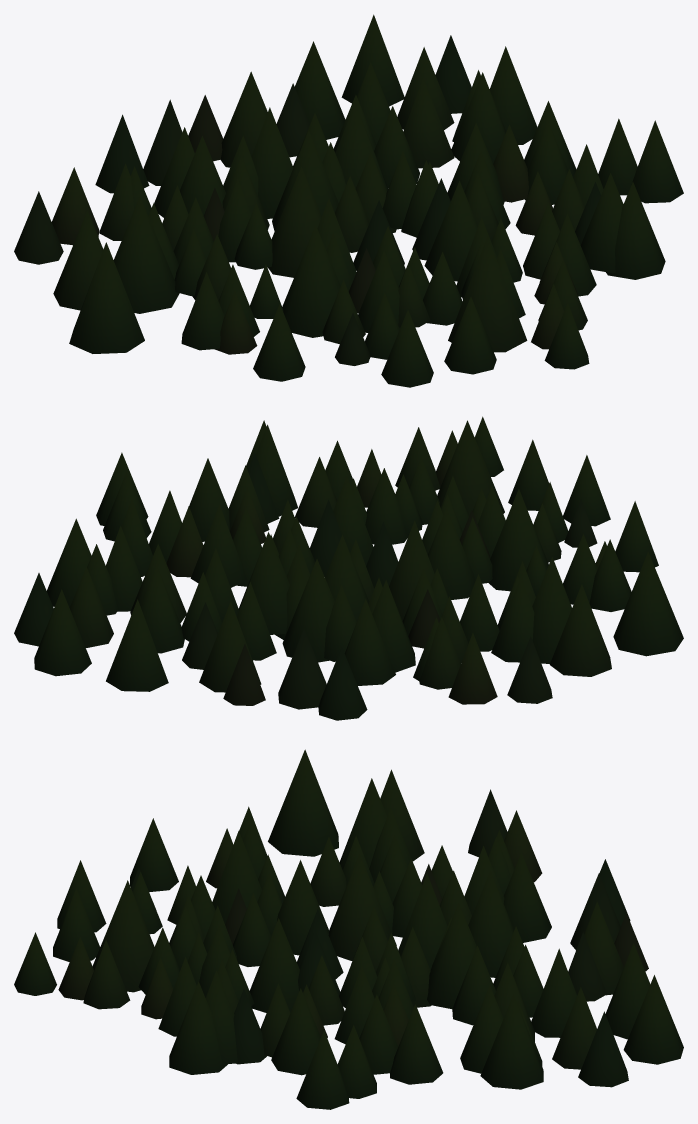
Rendered from SM_PineForest003.fbx.
The picture shows the model from 3 angles, top to bottom: view 1: azimuth 30°, elevation 25°; view 2: azimuth 150°, elevation 25°; view 3: azimuth 270°, elevation 25°; orthographic projection. The views are drawn at different scales.
Visible parts, largest first — view 1: SM_PineForest003; view 2: SM_PineForest003; view 3: SM_PineForest003.
Boxes of the visible parts, x1,y1,x2,y2 form: SM_PineForest003: (14, 14, 683, 387); SM_PineForest003: (14, 416, 683, 720); SM_PineForest003: (14, 749, 683, 1109).
Bounding box in the file's own units: 213 × 35.67 × 210.
